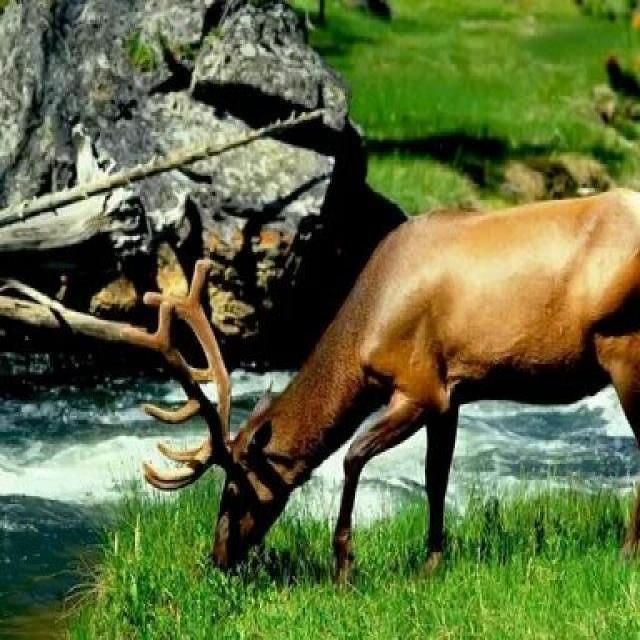deer: (167, 109, 640, 520)
